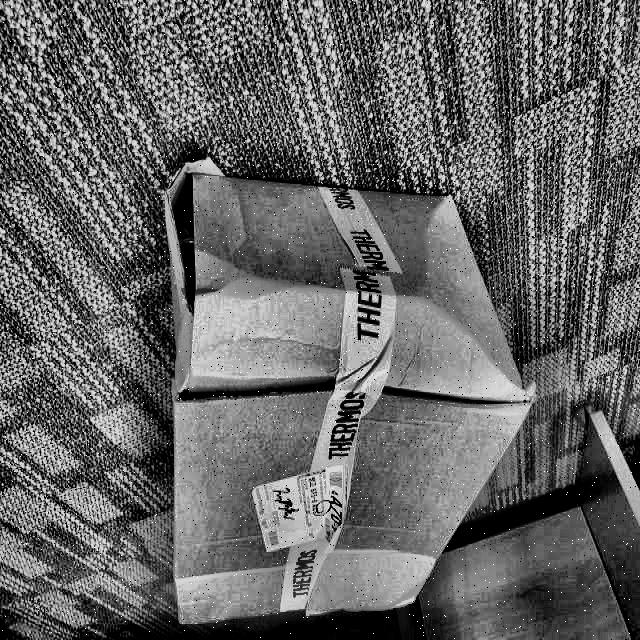box: (153, 153, 554, 628)
hole: (172, 159, 208, 319)
